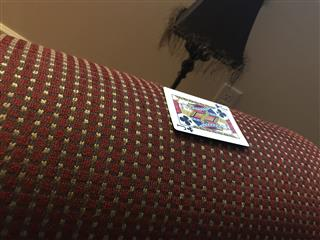JackOfClubs: (162, 85, 249, 147)
